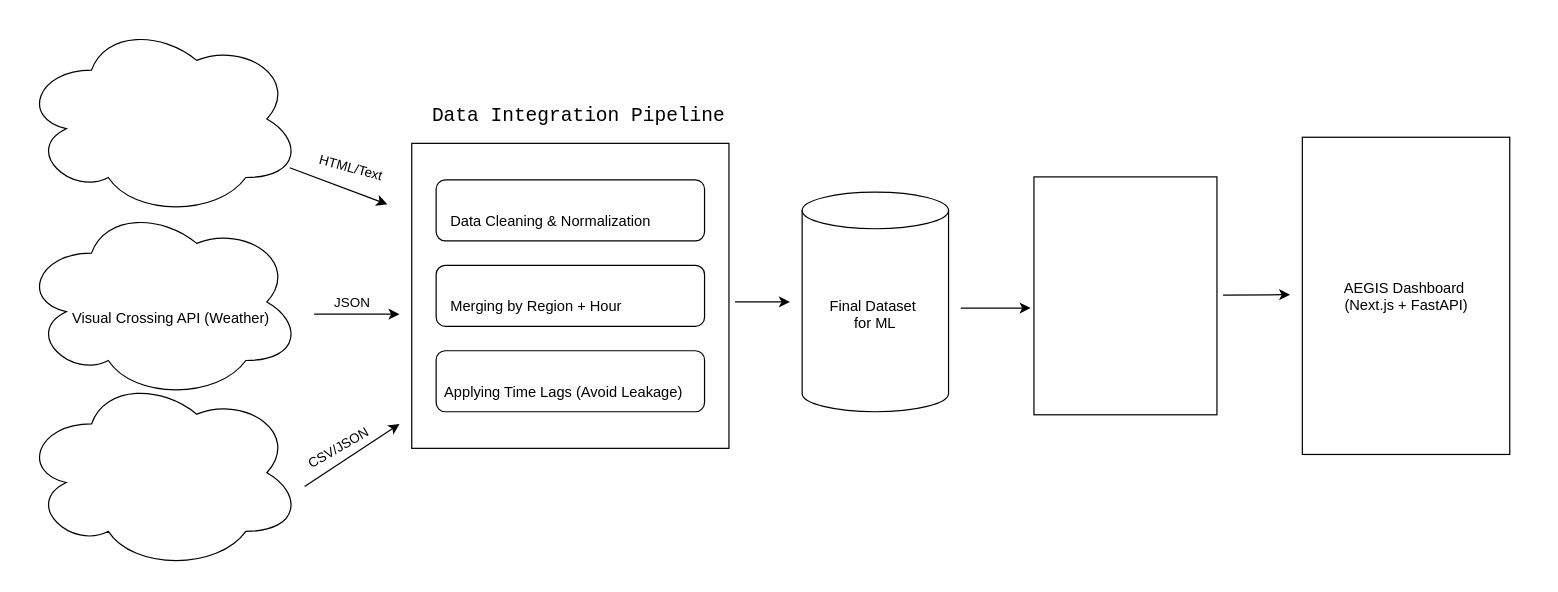
Some shapes in this 1558 by 592 pixel diagram are drawn without their labels. The centre of each missing label's shape, as x and y in pixels:
"ISW Reports (Scraped Text)" belongs at pixel 161 118.
"Kurochkin Data (History & Alarms)" belongs at pixel 161 472.
"Model Training (Random Forest/LSTM)" belongs at pixel 1125 295.
